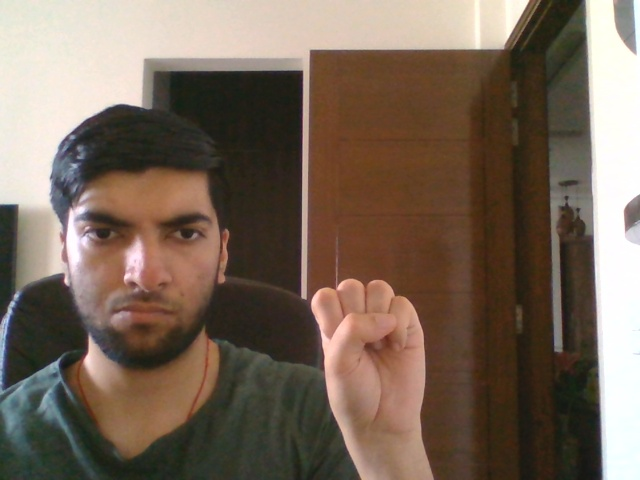LetterE: (310, 278, 426, 433)
